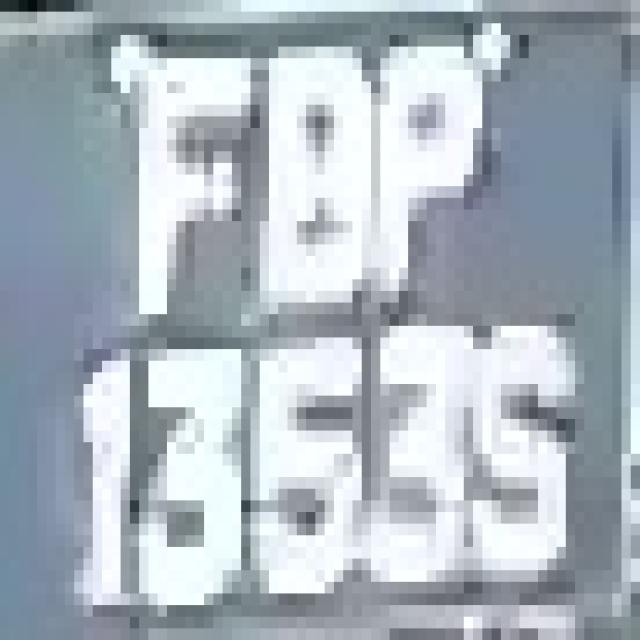1: (65, 302, 148, 628)
3: (362, 256, 473, 617), (120, 303, 232, 616)
5: (223, 314, 371, 594)
B: (222, 12, 362, 326)
F: (111, 12, 260, 326)
P: (352, 12, 492, 326)
S: (454, 279, 584, 605)
